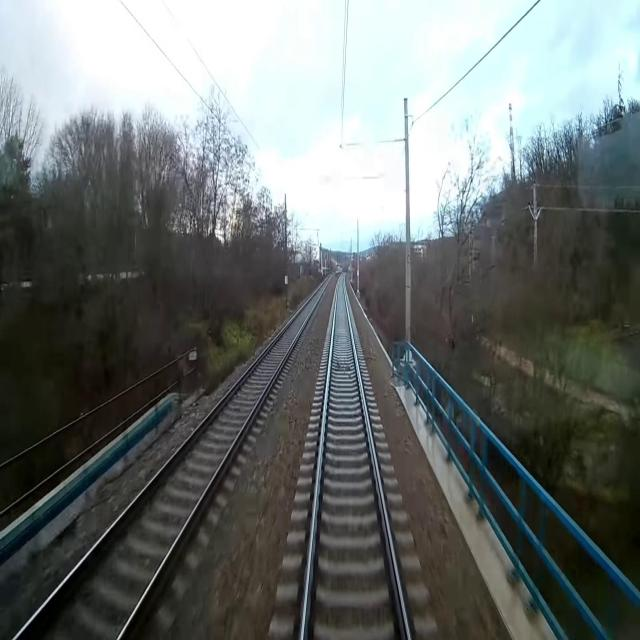rail-track: (18, 278, 329, 639), (305, 274, 406, 639)
